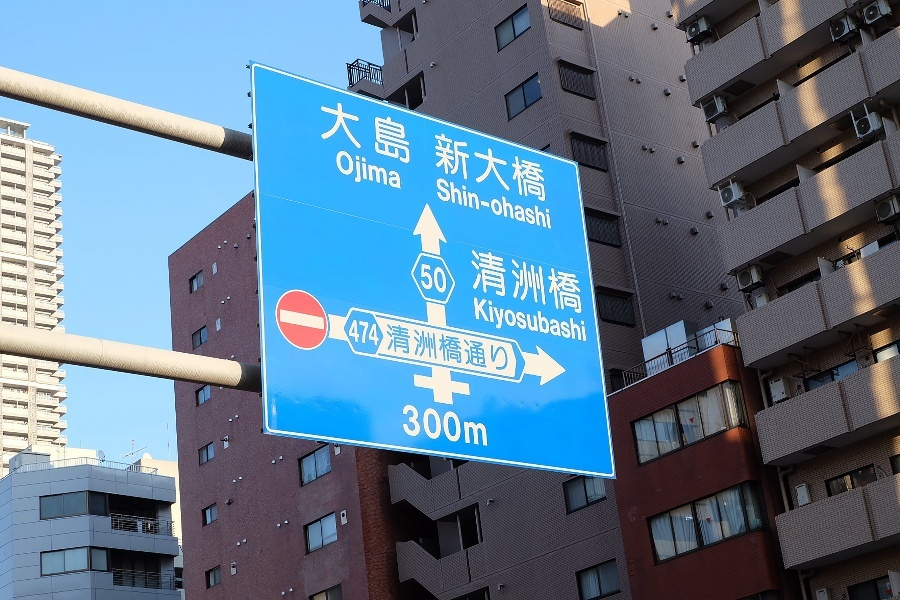text: (449, 133, 464, 202), (465, 133, 480, 202), (481, 133, 496, 202), (497, 133, 512, 202), (513, 133, 528, 202), (529, 133, 544, 202), (481, 247, 496, 316), (497, 247, 512, 316), (513, 247, 528, 316), (529, 247, 544, 316), (545, 247, 560, 316), (561, 247, 576, 316), (321, 99, 336, 165), (337, 99, 352, 165), (353, 99, 368, 165), (369, 99, 384, 165), (385, 99, 400, 165), (435, 133, 448, 202), (449, 178, 464, 230), (465, 178, 480, 230), (481, 178, 496, 230), (497, 178, 512, 230), (513, 178, 528, 230), (529, 178, 544, 230), (401, 324, 416, 373), (417, 324, 432, 373), (433, 324, 448, 373), (449, 324, 464, 373), (465, 324, 480, 373), (481, 324, 496, 373), (470, 247, 480, 316), (386, 324, 400, 373), (417, 402, 432, 447), (433, 402, 448, 447), (449, 402, 464, 447), (465, 402, 480, 447), (337, 149, 352, 194), (353, 149, 368, 194), (369, 149, 384, 194), (385, 149, 400, 194), (481, 298, 496, 343), (497, 298, 512, 343), (513, 298, 528, 343), (529, 298, 544, 343), (545, 298, 560, 343), (561, 298, 576, 343), (402, 402, 416, 447), (436, 178, 448, 230), (401, 99, 410, 165), (497, 324, 508, 373), (433, 264, 448, 295), (577, 298, 587, 343), (353, 319, 368, 346), (419, 264, 432, 295), (545, 178, 552, 230), (577, 247, 582, 316), (481, 402, 488, 447), (473, 298, 480, 343), (369, 319, 380, 346), (545, 133, 547, 202), (349, 319, 352, 346), (401, 149, 402, 194)
